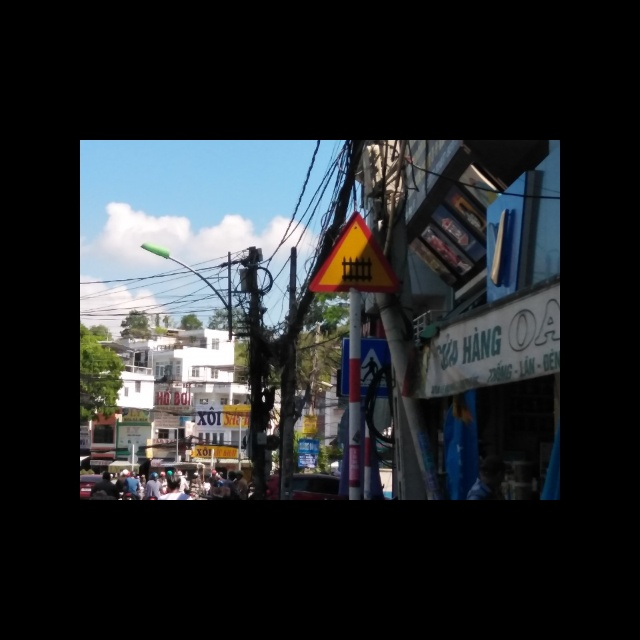Giao nhau với đường sắt có rào chắn: (309, 210, 401, 292)
